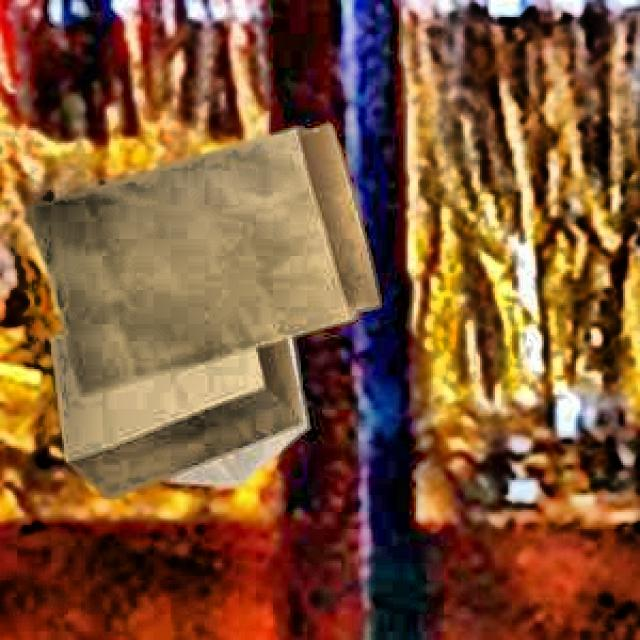Paper-bag: (18, 120, 385, 401), (35, 284, 342, 508)
